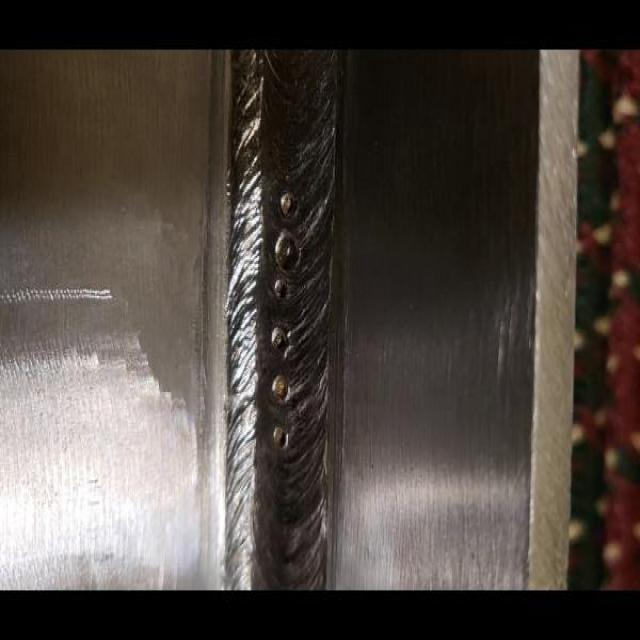Welding Line: (230, 55, 334, 591)
Workpiece: (5, 50, 572, 585)
porosity: (270, 187, 302, 448)
